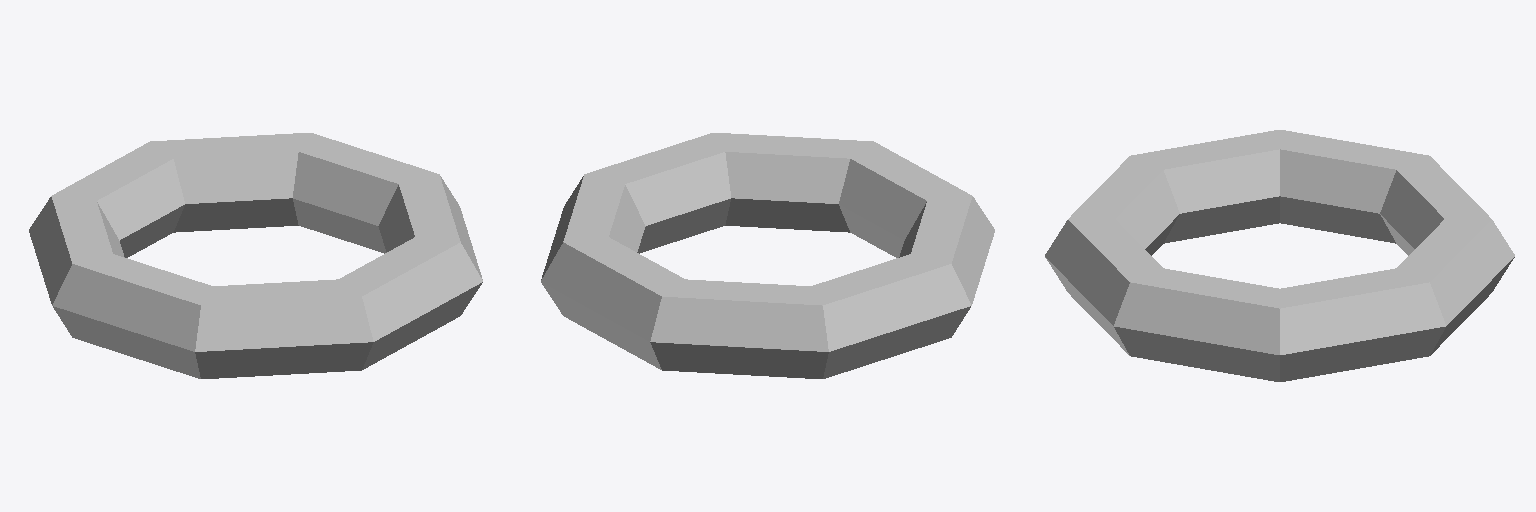
File: solarLoop.obj
3 renders of one model, left to right at view 1: azimuth 30°, elevation 25°; view 2: azimuth 150°, elevation 25°; view 3: azimuth 270°, elevation 25°, orthographic.
Parts seen in each view (by area): view 1: Torus; view 2: Torus; view 3: Torus.
Part boxes in pixels (bbox=[...]): Torus: bbox=[29, 133, 482, 378]; Torus: bbox=[541, 133, 994, 378]; Torus: bbox=[1045, 130, 1514, 381].
Bounding box in the file's own units: 2.5 × 0.433 × 2.5.